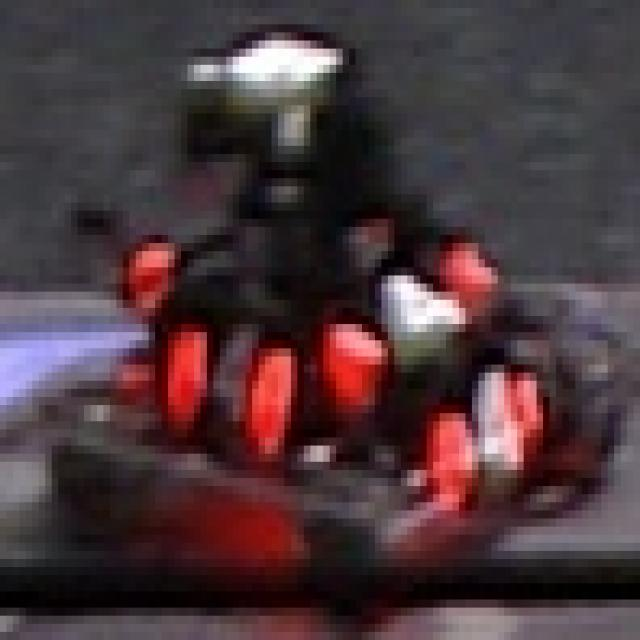R4: (162, 308, 298, 445), (433, 356, 543, 478)
